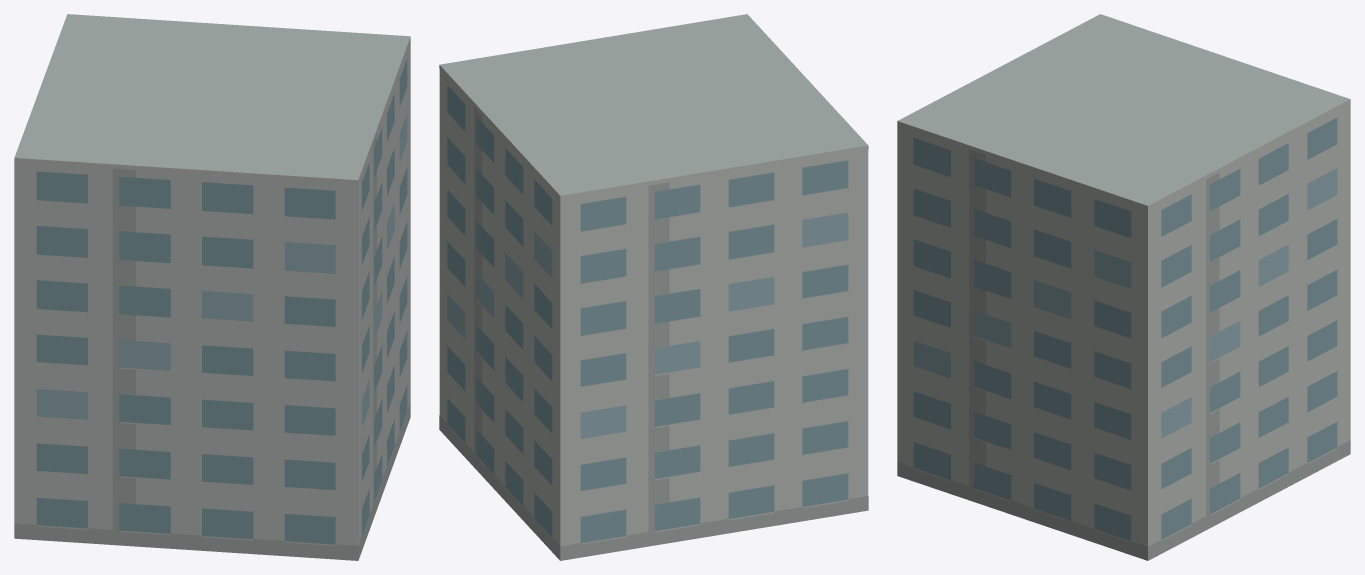
The model's file is residential-45583d2d-a305-4532-86cb-97b889bf5319.glb.
The picture shows the model from 3 angles, left to right: view 1: azimuth 30°, elevation 25°; view 2: azimuth 150°, elevation 25°; view 3: azimuth 270°, elevation 25°; orthographic projection. The views are drawn at different scales.
Visible parts, largest first — view 1: residential-45583d2d-a305-4532-86cb-97b889bf5319.tmp; view 2: residential-45583d2d-a305-4532-86cb-97b889bf5319.tmp; view 3: residential-45583d2d-a305-4532-86cb-97b889bf5319.tmp.
Boxes of the visible parts, x1,y1,x2,y2 form: residential-45583d2d-a305-4532-86cb-97b889bf5319.tmp: (14, 14, 410, 560); residential-45583d2d-a305-4532-86cb-97b889bf5319.tmp: (439, 14, 868, 560); residential-45583d2d-a305-4532-86cb-97b889bf5319.tmp: (897, 14, 1350, 560).
Size of the model in its own units: 24.76 by 21.35 by 24.71.
